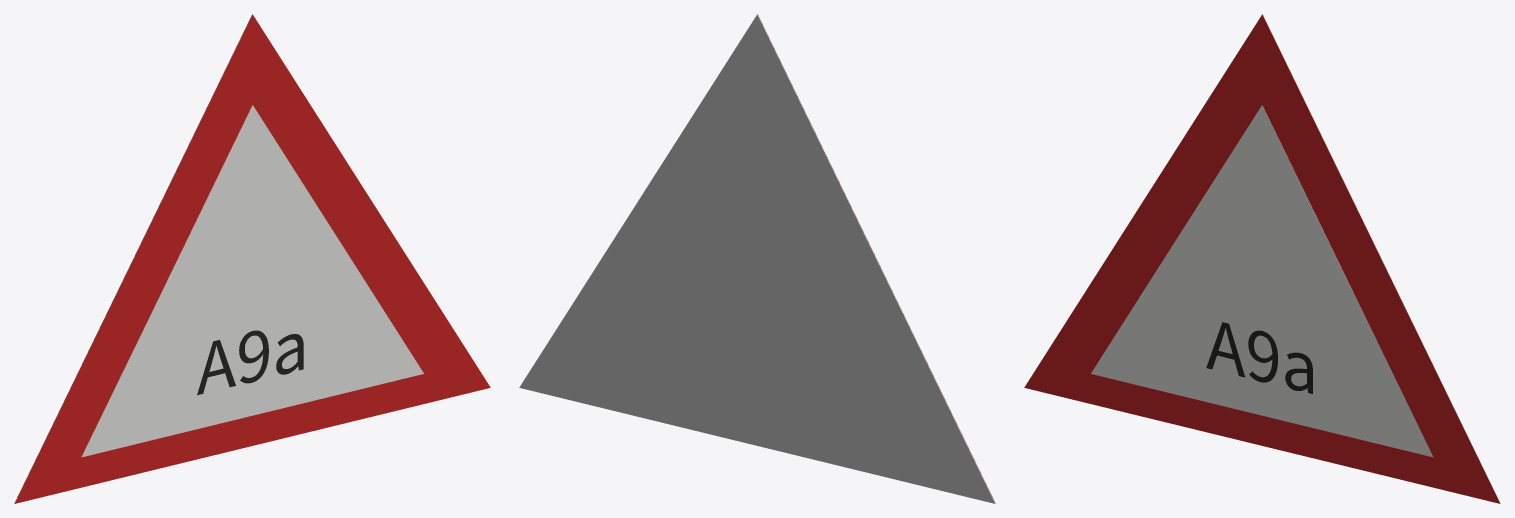
3 renders of one model, left to right at view 1: azimuth 30°, elevation 25°; view 2: azimuth 150°, elevation 25°; view 3: azimuth 330°, elevation 25°, orthographic.
Visible parts, largest first — view 1: A9a_int01, A9a_ext00, A9a_txt02, A9a_dos; view 2: A9a_dos; view 3: A9a_int01, A9a_ext00, A9a_txt02, A9a_dos.
Boxes of the visible parts, x1=… form: A9a_int01: x1=81, y1=105, x2=423, y2=457; A9a_ext00: x1=14, y1=14, x2=490, y2=503; A9a_txt02: x1=197, y1=330, x2=303, y2=395; A9a_dos: x1=14, y1=14, x2=252, y2=503; A9a_dos: x1=519, y1=14, x2=995, y2=503; A9a_int01: x1=1091, y1=105, x2=1433, y2=457; A9a_ext00: x1=1024, y1=14, x2=1500, y2=503; A9a_txt02: x1=1206, y1=322, x2=1312, y2=393; A9a_dos: x1=1262, y1=14, x2=1500, y2=503.
Size of the model in its own units: 1 by 0.866 by 0.0025.
